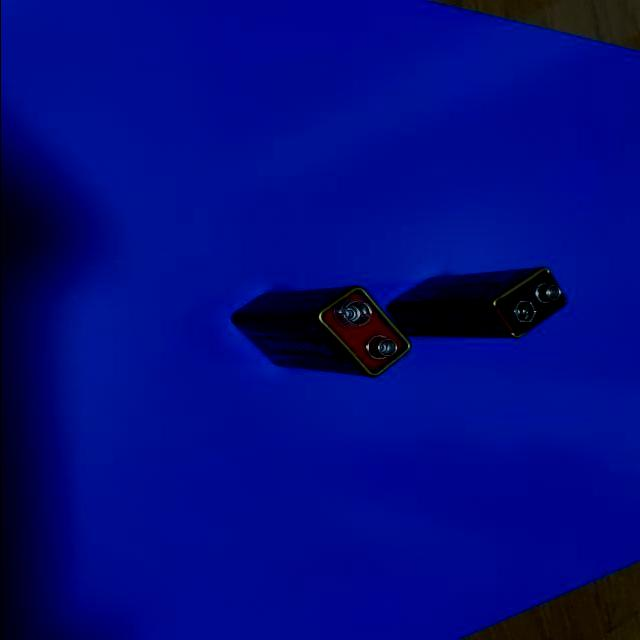9V: (230, 285, 411, 378), (387, 266, 568, 339)
